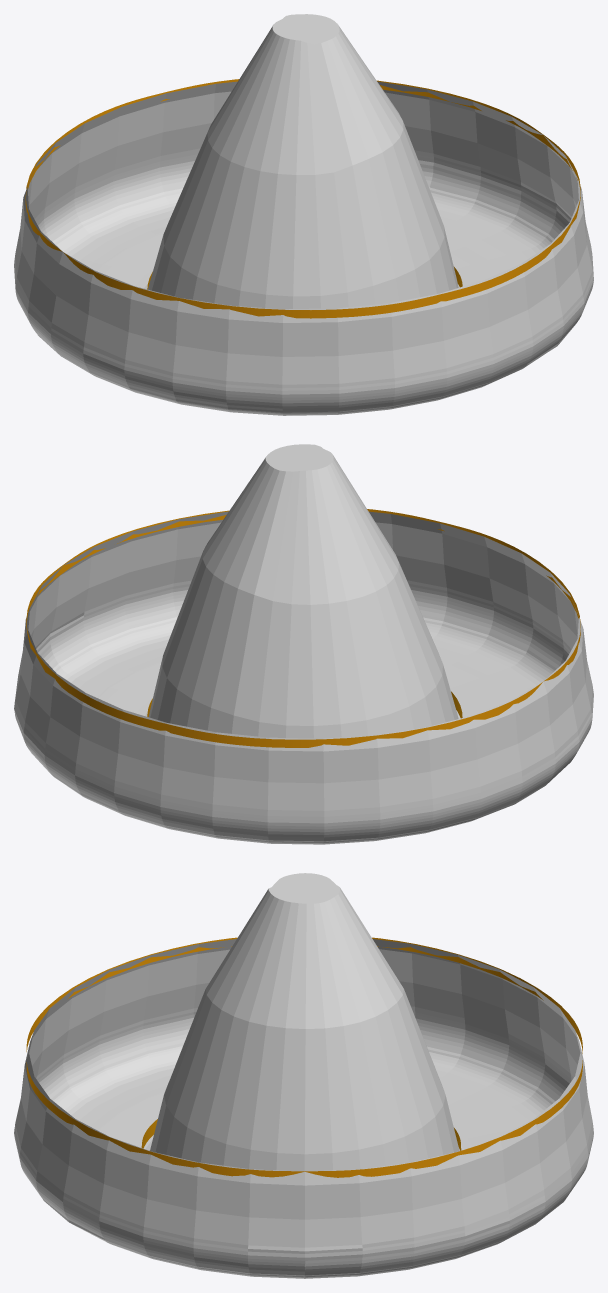
Rendered from SOMBRERO.glb.
3 views of the same model, one above another, from view 1: azimuth 30°, elevation 25°; view 2: azimuth 150°, elevation 25°; view 3: azimuth 270°, elevation 25° (orthographic).
Visible parts, largest first — view 1: Cilindro, Superficie; view 2: Cilindro, Superficie; view 3: Cilindro, Superficie.
Part boxes in pixels (box(x1,y1,x2,y2)): Cilindro: box(14, 14, 593, 415); Superficie: box(25, 79, 580, 318); Cilindro: box(14, 444, 593, 844); Superficie: box(26, 509, 580, 747); Cilindro: box(14, 873, 593, 1278); Superficie: box(26, 937, 582, 1177).
Bounding box in the file's own units: 4 × 2.11 × 3.94.
